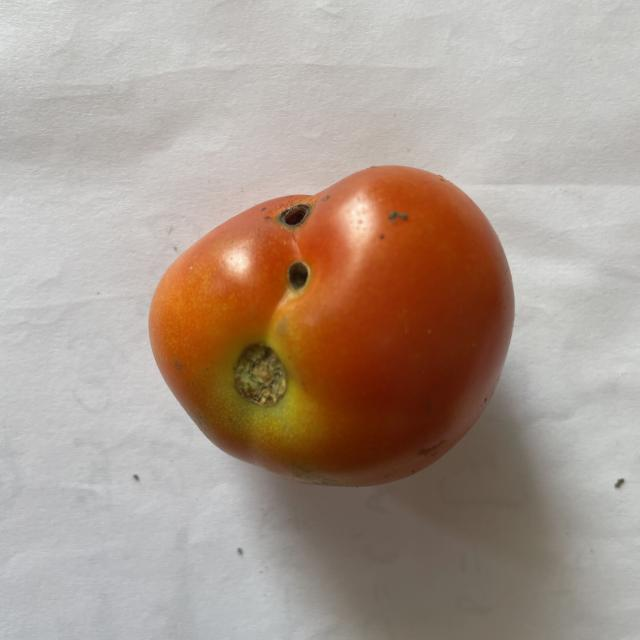fruitworm_bore: (270, 195, 328, 293)
